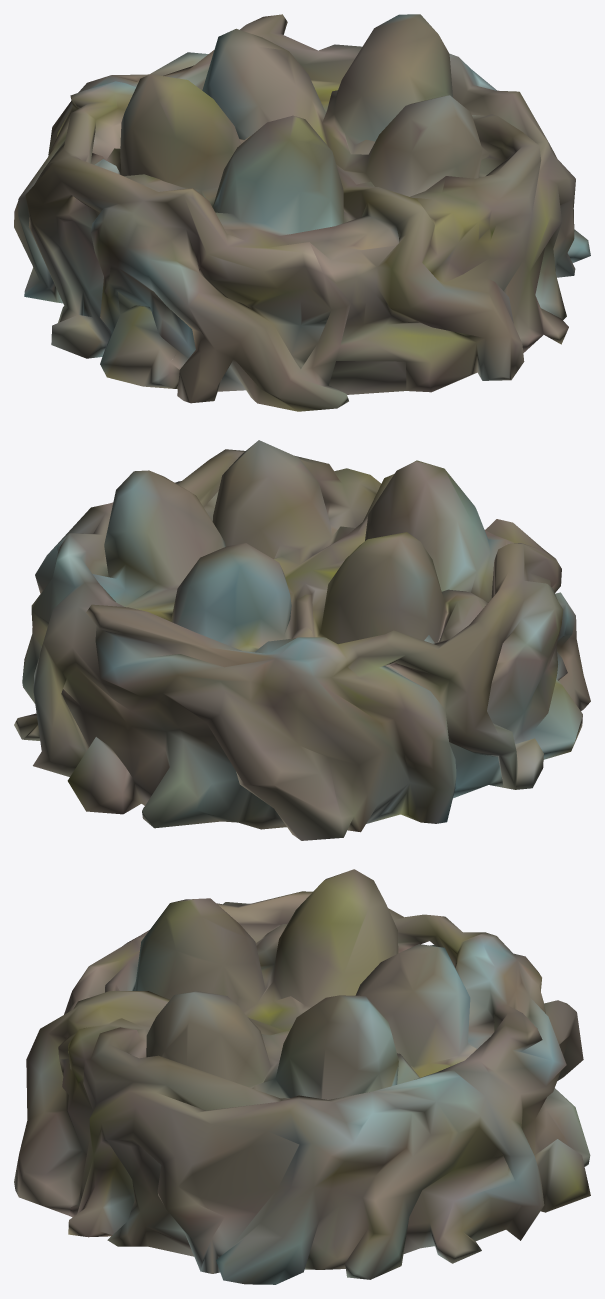
Rendered from BroodNest_game.glb.
3 renders of one model, top to bottom at view 1: azimuth 30°, elevation 25°; view 2: azimuth 150°, elevation 25°; view 3: azimuth 270°, elevation 25°, orthographic.
Visible parts, largest first — view 1: BroodNest; view 2: BroodNest; view 3: BroodNest.
Boxes of the visible parts, x1,y1,x2,y2 form: BroodNest: [14, 14, 590, 411]; BroodNest: [14, 440, 590, 840]; BroodNest: [14, 869, 590, 1284].
Size of the model in its own units: 1.08 by 0.4863 by 1.08.
